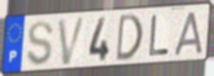4: (87, 15, 112, 64)
A: (173, 10, 205, 57)
D: (114, 12, 145, 64)
L: (147, 14, 170, 59)
S: (25, 20, 55, 68)
V: (56, 15, 88, 67)
